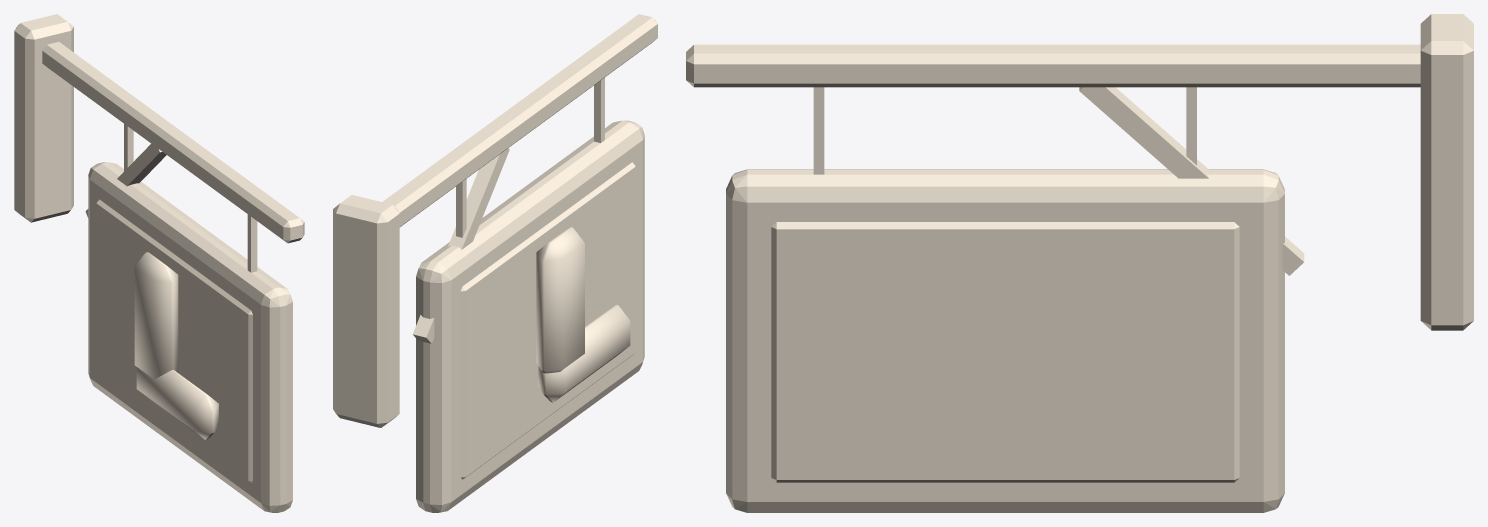
The model's file is SM_VK_Sign_Boot.fbx.
3 views of the same model, side by side, from view 1: azimuth 30°, elevation 25°; view 2: azimuth 150°, elevation 25°; view 3: azimuth 270°, elevation 25° (orthographic). The views are drawn at different scales.
Visible parts, largest first — view 1: SM_VK_Sign_Boot.001; view 2: SM_VK_Sign_Boot.001; view 3: SM_VK_Sign_Boot.001.
Boxes of the visible parts, x1,y1,x2,y2 form: SM_VK_Sign_Boot.001: (14,14,304,512); SM_VK_Sign_Boot.001: (333,14,657,512); SM_VK_Sign_Boot.001: (686,14,1473,512).
Size of the model in its own units: 0.22 by 1 by 1.48.
